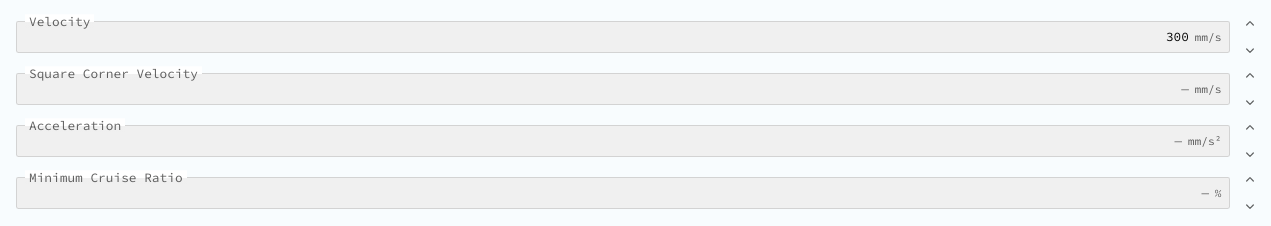
Test: MachineModule › abandons an edit left without Enter and shows the machine value again
Replace the text in the number field with class "app-field__input" showing "Velocity mm/s" with "450". click: {"x": 607, "y": 37}
box: [25,27,1189,47]
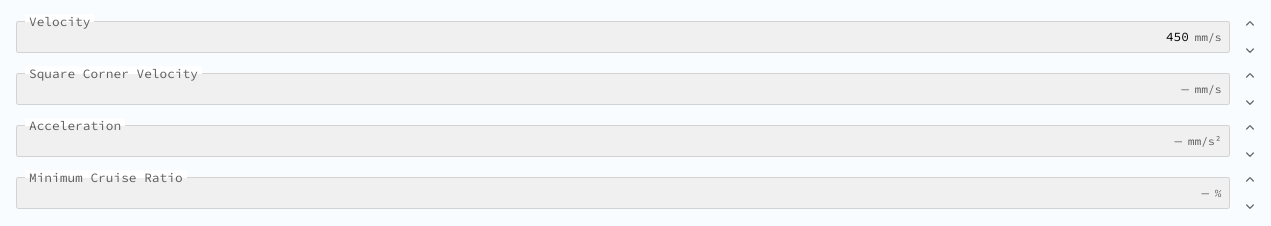
Leave the number field with class "app-field__input" showing "Velocity mm/s", box [25,27,1189,47]
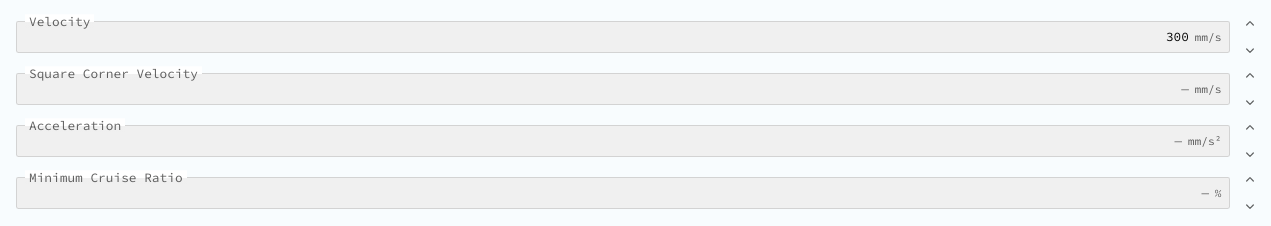
expect the number field with class "app-field__input" holds "300": met, box [25,27,1189,47]
